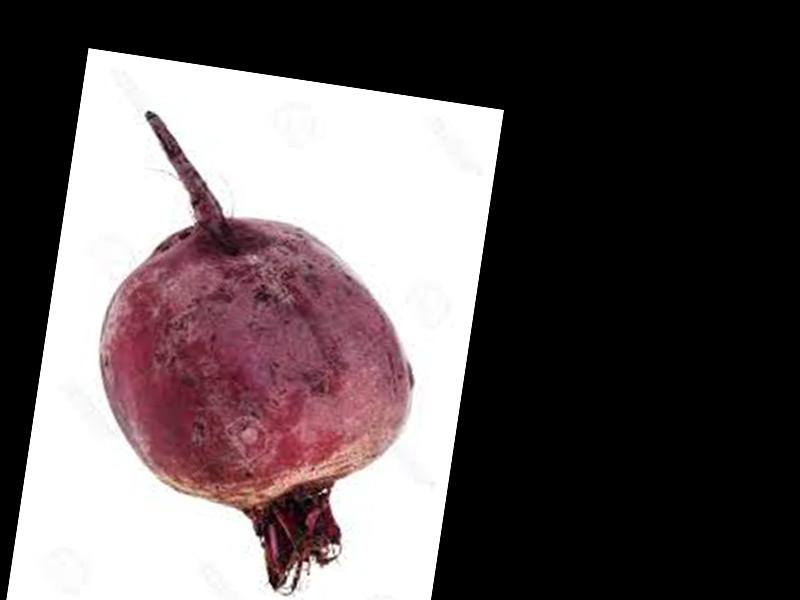Beet: (69, 114, 443, 600)
